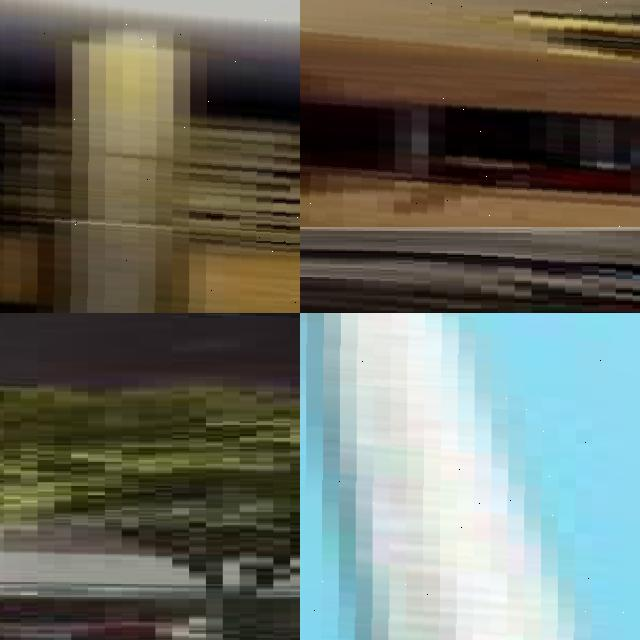street light: (300, 313, 640, 640), (0, 0, 300, 313), (300, 0, 640, 227)
